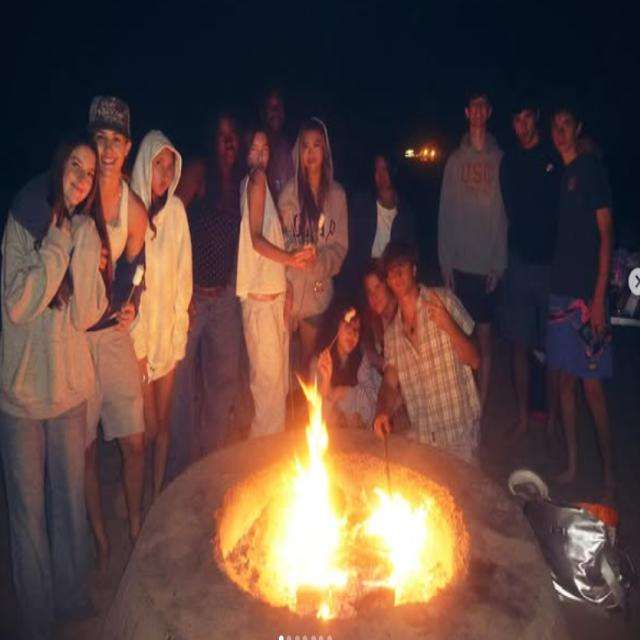fire: (350, 460, 455, 608), (291, 374, 350, 588), (213, 459, 291, 606), (290, 585, 350, 621)
